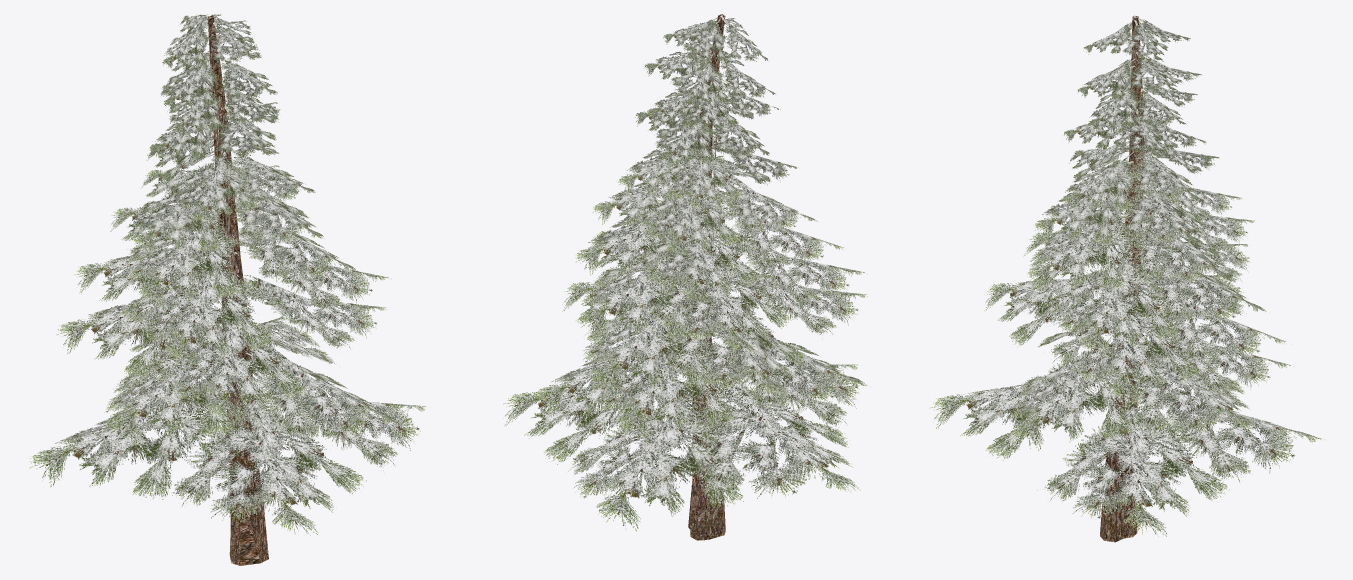
The model's file is ScottPine_winter.DAE.
3 renders of one model, left to right at view 1: azimuth 30°, elevation 25°; view 2: azimuth 150°, elevation 25°; view 3: azimuth 270°, elevation 25°, orthographic. The views are drawn at different scales.
Parts seen in each view (by area): view 1: SoftNeedlePine256, SoftNeedlePine512; view 2: SoftNeedlePine256, SoftNeedlePine512; view 3: SoftNeedlePine256, SoftNeedlePine512.
Part boxes in pixels (box(x1,y1,x2,y2)): SoftNeedlePine256: box(29, 15, 424, 532); SoftNeedlePine512: box(29, 14, 425, 565); SoftNeedlePine256: box(504, 18, 865, 536); SoftNeedlePine512: box(503, 14, 867, 540); SoftNeedlePine256: box(931, 25, 1321, 532); SoftNeedlePine512: box(929, 15, 1326, 542).
Size of what is drawn, in the model's own units: 716 by 702 by 931.
